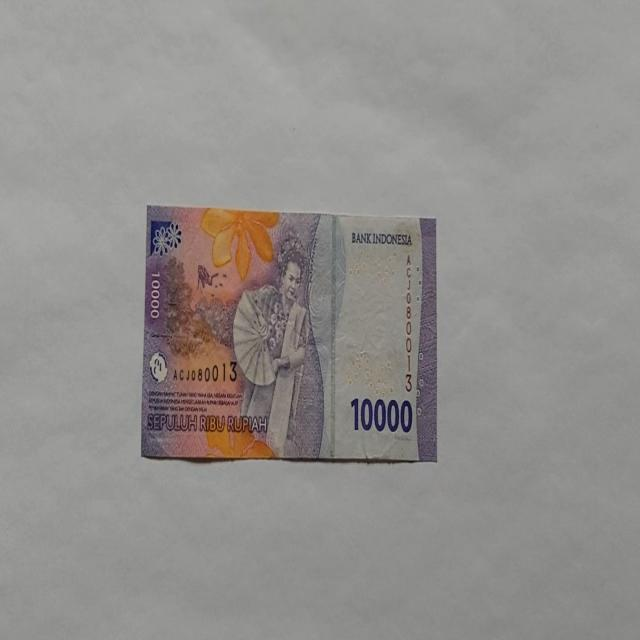sepuluh ribu rupiah: (140, 204, 438, 463)
